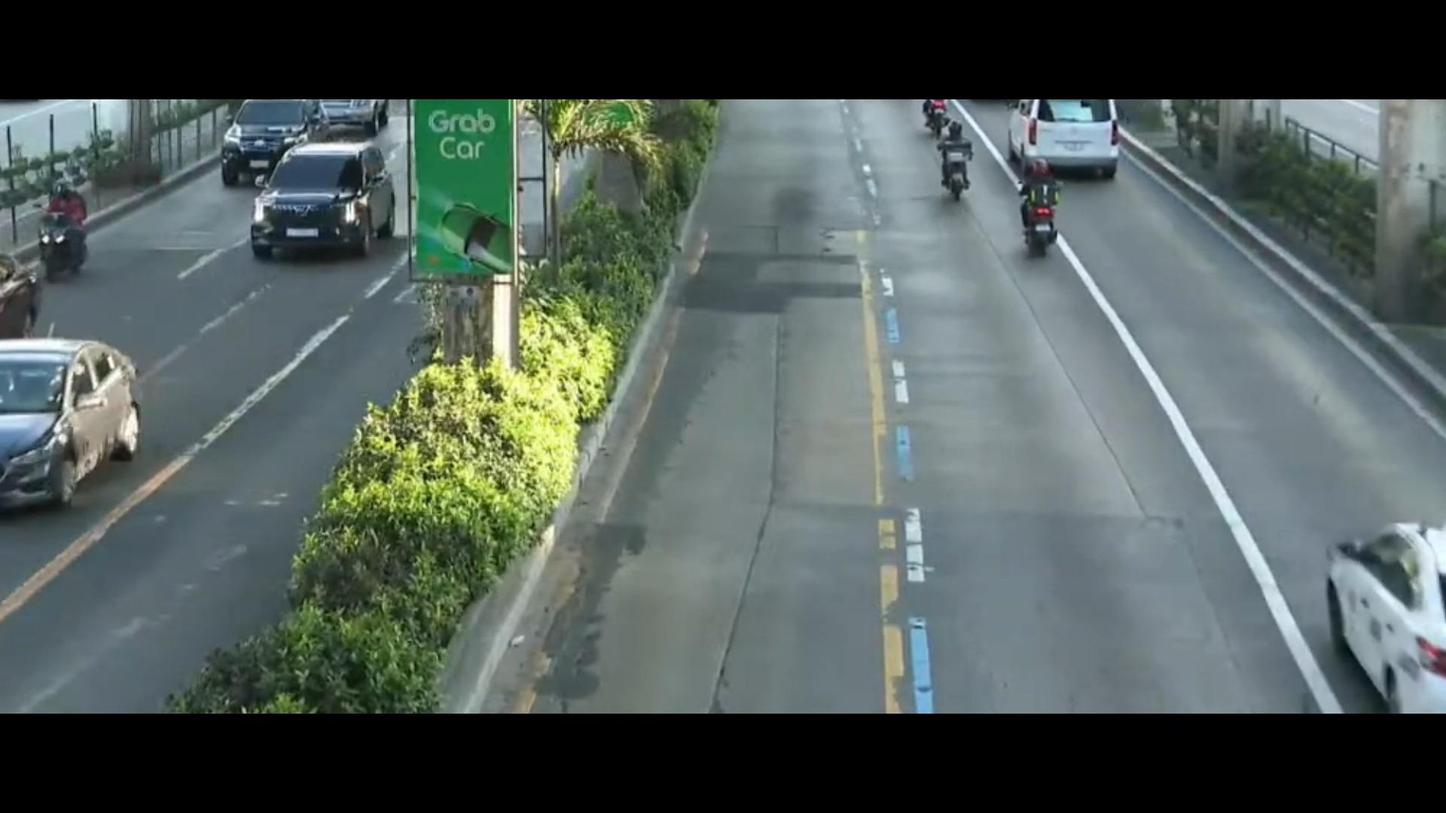Motorcycle: (25, 156, 113, 290), (1009, 151, 1088, 266), (923, 118, 985, 204), (919, 97, 961, 146)
SUV: (238, 133, 397, 268), (214, 99, 318, 191)
Sedan: (0, 322, 161, 517), (1316, 485, 1446, 711)
Van: (1003, 103, 1150, 176)
